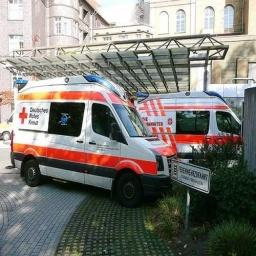ambulance: (11, 74, 175, 206), (136, 91, 240, 158)
